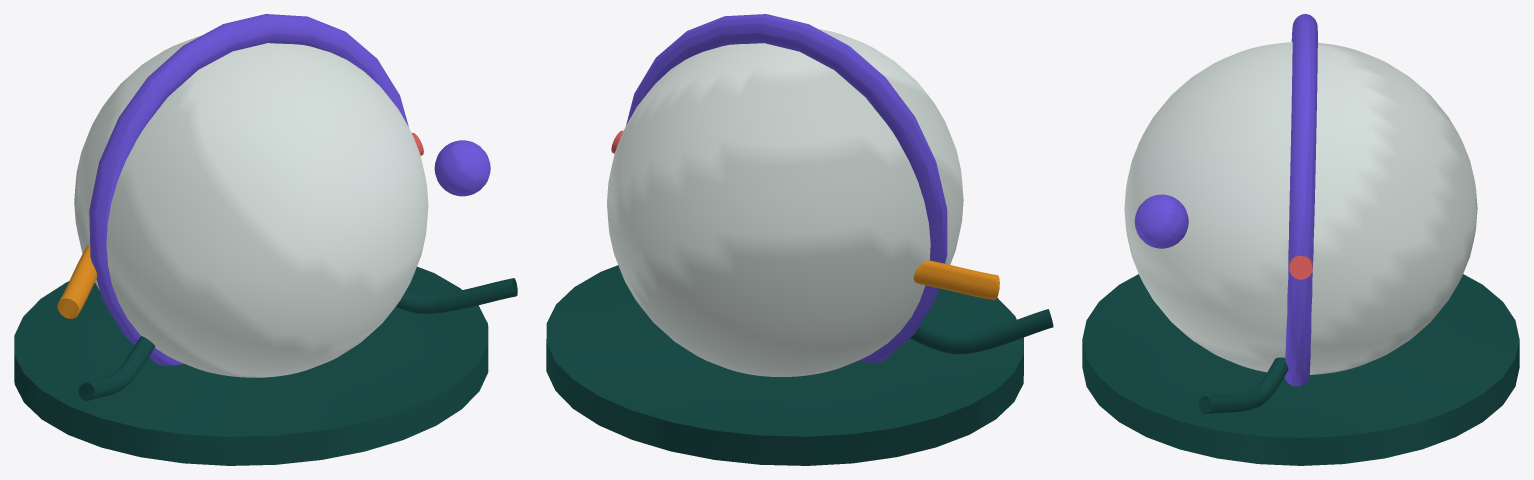
Rendered from 1235_细胞图鉴_细胞壁.glb.
The picture shows the model from 3 angles, left to right: view 1: azimuth 30°, elevation 25°; view 2: azimuth 150°, elevation 25°; view 3: azimuth 270°, elevation 25°; orthographic projection. The views are drawn at different scales.
Visible parts, largest first — view 1: card_1235; view 2: card_1235; view 3: card_1235.
Boxes of the visible parts, x1,y1,x2,y2 form: card_1235: [14, 14, 517, 465]; card_1235: [546, 14, 1053, 465]; card_1235: [1082, 14, 1519, 465].
Size of the model in its own units: 1.3 by 1 by 1.16.
